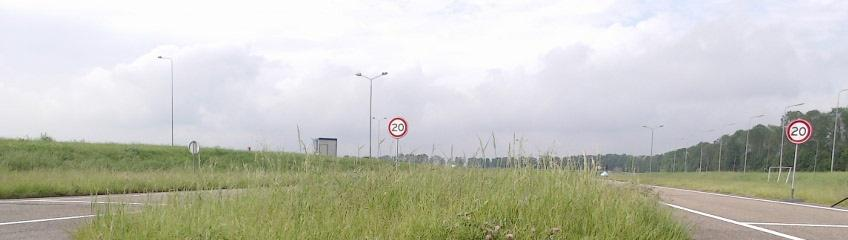Speed-limit-20km-h-: (786, 119, 812, 144), (387, 116, 408, 139)
